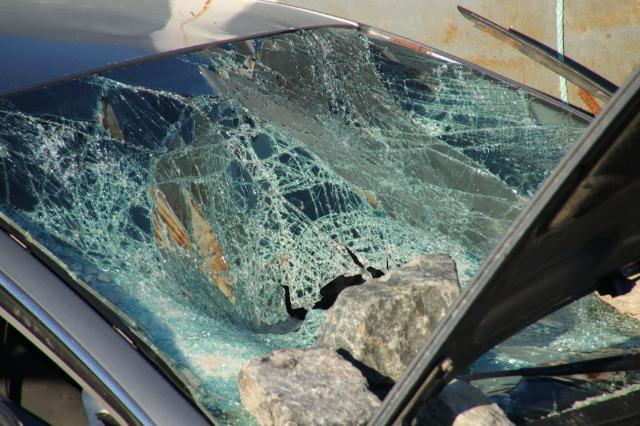glass shatter: (0, 28, 592, 426)
